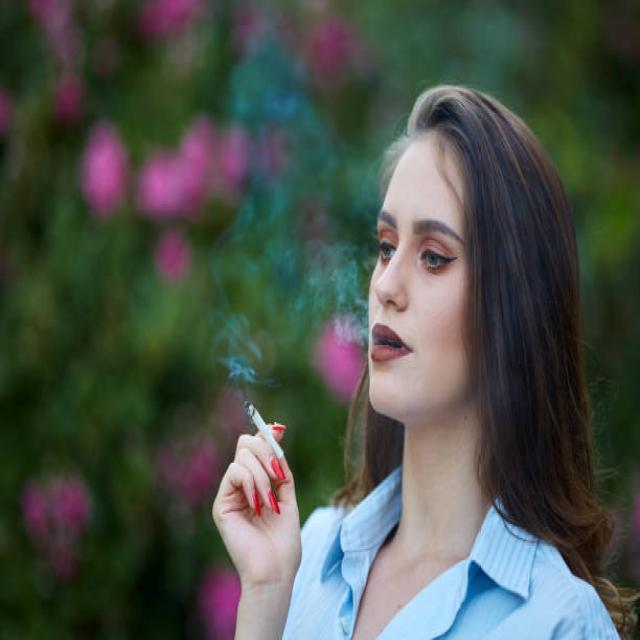Cigarette: (236, 392, 288, 460)
